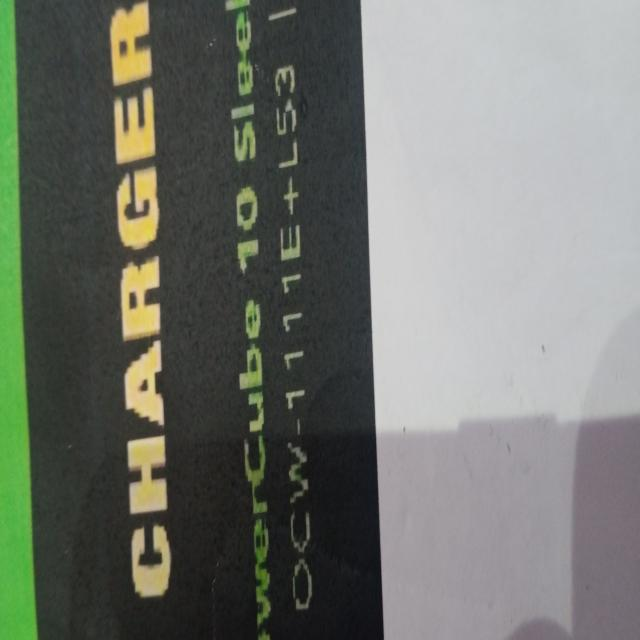PowerCube 10 Sleek OCW-1111ExL53: (222, 0, 317, 638)
